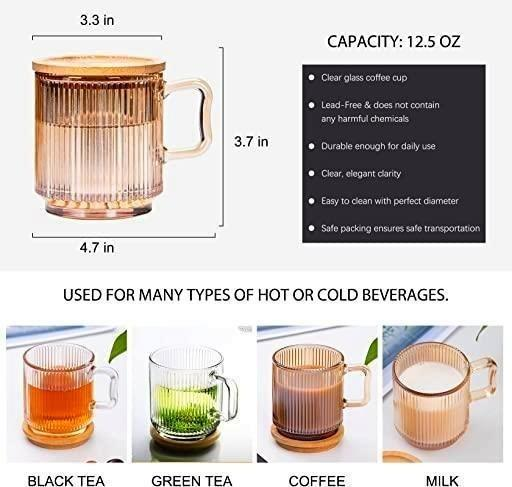glass-mug: (25, 49, 214, 226), (389, 340, 500, 454), (16, 338, 122, 451), (266, 341, 372, 446), (143, 342, 245, 451)
